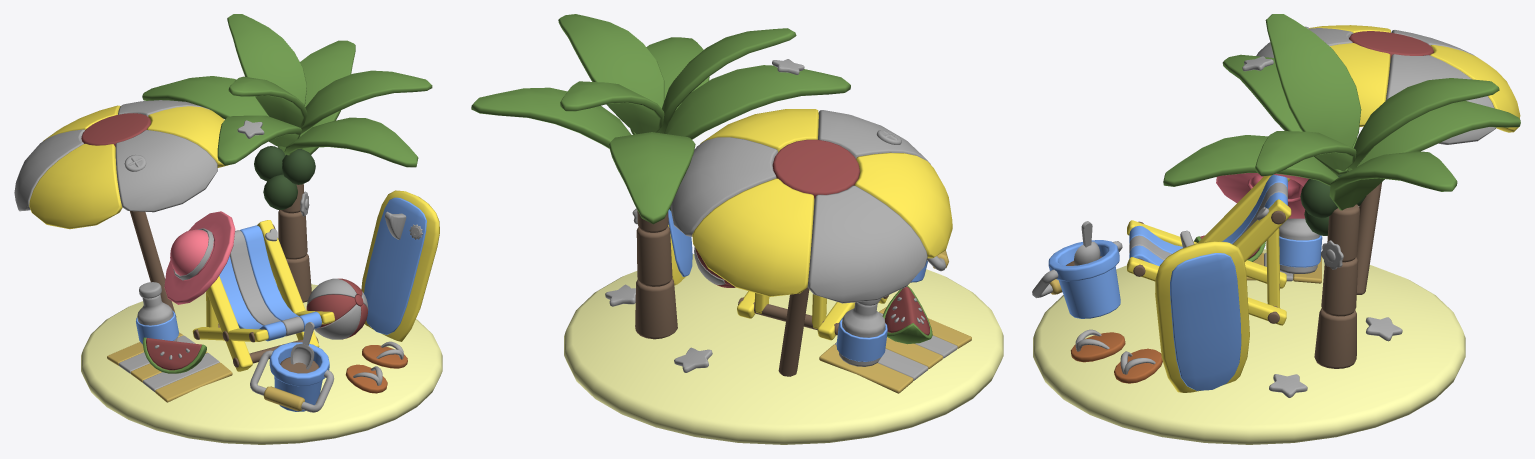
File: HawaiiBeach.fbx
3 views of the same model, side by side, from view 1: azimuth 30°, elevation 25°; view 2: azimuth 150°, elevation 25°; view 3: azimuth 270°, elevation 25° (orthographic). The views are drawn at different scales.
Visible parts, largest first — view 1: S_HawaiiBeach, M_HawaiiBeach_17, M_HawaiiBeach_19, M_HawaiiBeach_15, M_HawaiiBeach_1, M_HawaiiBeach_12, M_HawaiiBeach_11, M_HawaiiBeach_13, M_HawaiiBeach_2, M_HawaiiBeach_18, M_HawaiiBeach_4, D_HawaiiBeach_12 (+1 smaller); view 2: S_HawaiiBeach, M_HawaiiBeach_4, M_HawaiiBeach_15, M_HawaiiBeach_2, M_HawaiiBeach_1, M_HawaiiBeach_18, D_HawaiiBeach_22, M_HawaiiBeach_24; view 3: S_HawaiiBeach, M_HawaiiBeach_4, M_HawaiiBeach_15, M_HawaiiBeach_14, M_HawaiiBeach_19, M_HawaiiBeach_17, M_HawaiiBeach_12, M_HawaiiBeach_16, M_HawaiiBeach_25, M_HawaiiBeach_2, M_HawaiiBeach_18, D_HawaiiBeach_12 (+3 smaller).
Boxes of the visible parts, bbox=[...] form: S_HawaiiBeach: bbox=[14, 14, 442, 444]; M_HawaiiBeach_17: bbox=[257, 220, 319, 347]; M_HawaiiBeach_19: bbox=[206, 276, 252, 371]; M_HawaiiBeach_15: bbox=[278, 210, 307, 259]; M_HawaiiBeach_1: bbox=[146, 338, 201, 370]; M_HawaiiBeach_12: bbox=[282, 149, 315, 184]; M_HawaiiBeach_11: bbox=[263, 174, 297, 209]; M_HawaiiBeach_13: bbox=[254, 146, 285, 181]; M_HawaiiBeach_2: bbox=[137, 294, 177, 344]; M_HawaiiBeach_18: bbox=[192, 327, 268, 341]; M_HawaiiBeach_4: bbox=[277, 254, 311, 302]; D_HawaiiBeach_12: bbox=[290, 322, 314, 369]; S_HawaiiBeach: bbox=[471, 14, 1003, 444]; M_HawaiiBeach_4: bbox=[635, 278, 677, 339]; M_HawaiiBeach_15: bbox=[636, 226, 672, 286]; M_HawaiiBeach_2: bbox=[839, 302, 885, 366]; M_HawaiiBeach_1: bbox=[885, 286, 929, 335]; M_HawaiiBeach_18: bbox=[817, 302, 855, 340]; D_HawaiiBeach_22: bbox=[674, 347, 712, 372]; M_HawaiiBeach_24: bbox=[738, 297, 838, 335]; S_HawaiiBeach: bbox=[1032, 14, 1520, 444]; M_HawaiiBeach_4: bbox=[1314, 308, 1356, 368]; M_HawaiiBeach_15: bbox=[1321, 257, 1358, 316]; M_HawaiiBeach_14: bbox=[1327, 204, 1359, 262]; M_HawaiiBeach_19: bbox=[1198, 175, 1290, 243]; M_HawaiiBeach_17: bbox=[1233, 199, 1291, 261]; M_HawaiiBeach_12: bbox=[1300, 179, 1337, 218]; M_HawaiiBeach_16: bbox=[1127, 257, 1286, 325]; M_HawaiiBeach_25: bbox=[1266, 228, 1280, 308]; M_HawaiiBeach_2: bbox=[1279, 218, 1319, 273]; M_HawaiiBeach_18: bbox=[1127, 220, 1286, 288]; D_HawaiiBeach_12: bbox=[1074, 221, 1100, 265].
Bounding box in the file's own units: 587 × 443 × 589.
